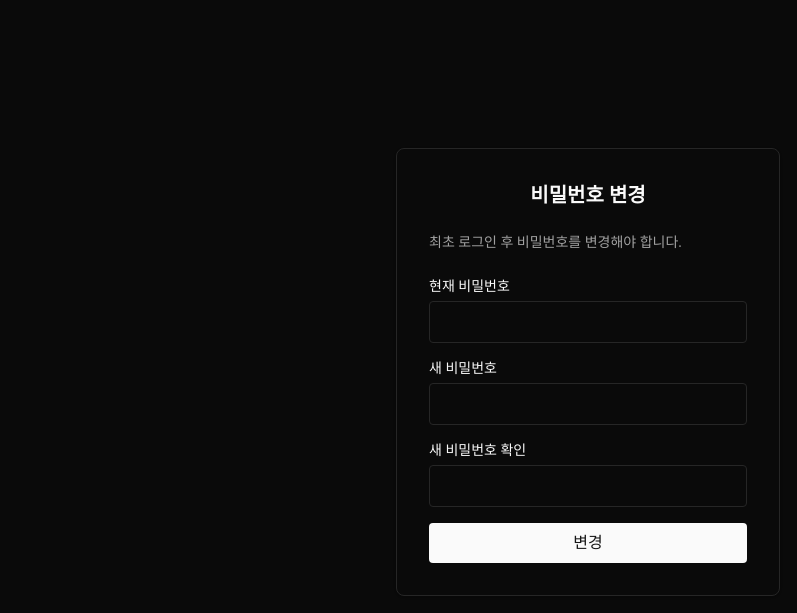
Scenario: ChangePasswordPage integration › 성공(204) → clearMustChangePassword + / 로 navigate
Step 1. Type "OldPass!1ab" into the password field labelled "현재 비밀번호" → (588,322), box top-left (429, 301), bottom-right (747, 343)
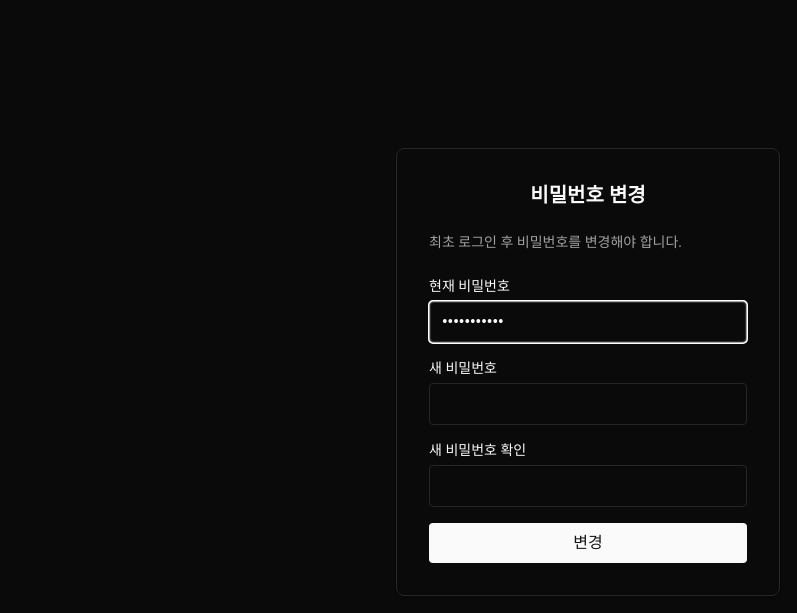
Step 2. Type "NewPass!1AB" into the password field labelled "새 비밀번호" → (588,404), box top-left (429, 383), bottom-right (747, 425)
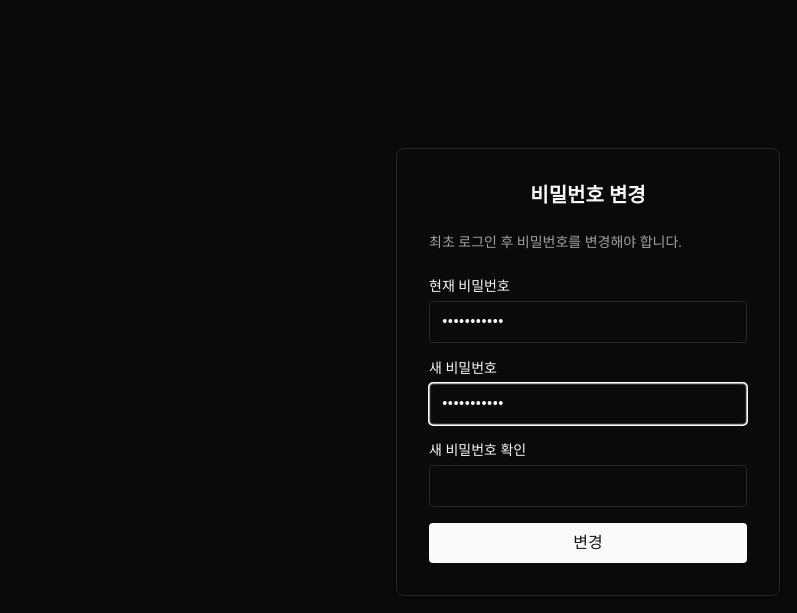
Step 3. Type "NewPass!1AB" into the password field labelled "새 비밀번호 확인" → (588,486), box top-left (429, 465), bottom-right (747, 507)
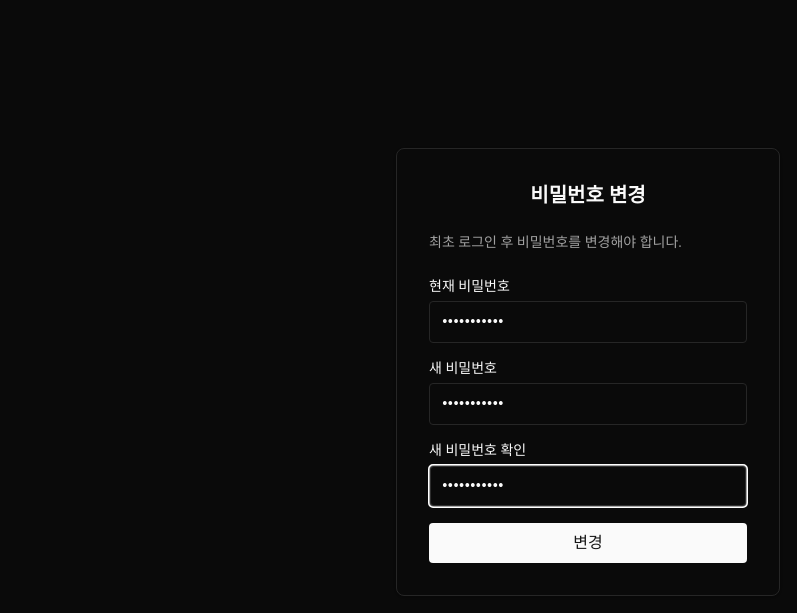
Step 4. Click the button "변경" → (588,543), box top-left (429, 523), bottom-right (747, 563)
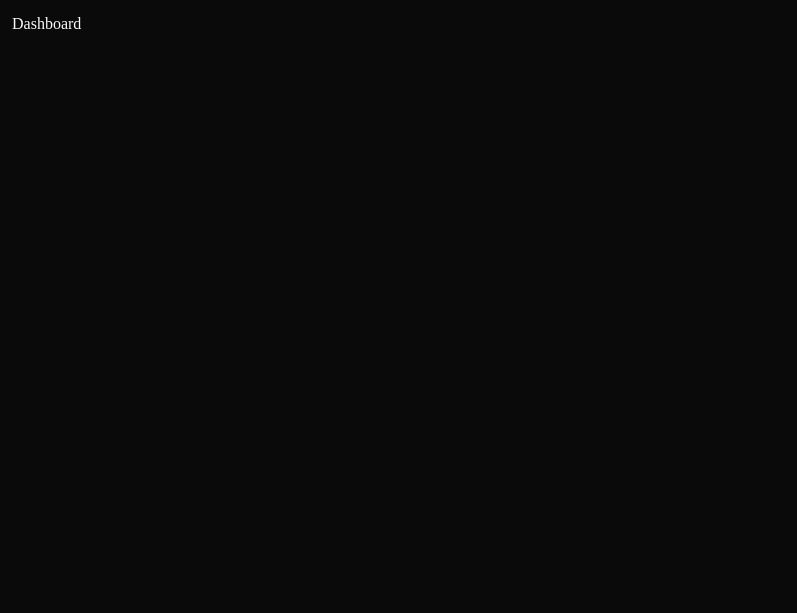
Expected: the text "Dashboard" is shown, top-left (12, 15), bottom-right (81, 32)
